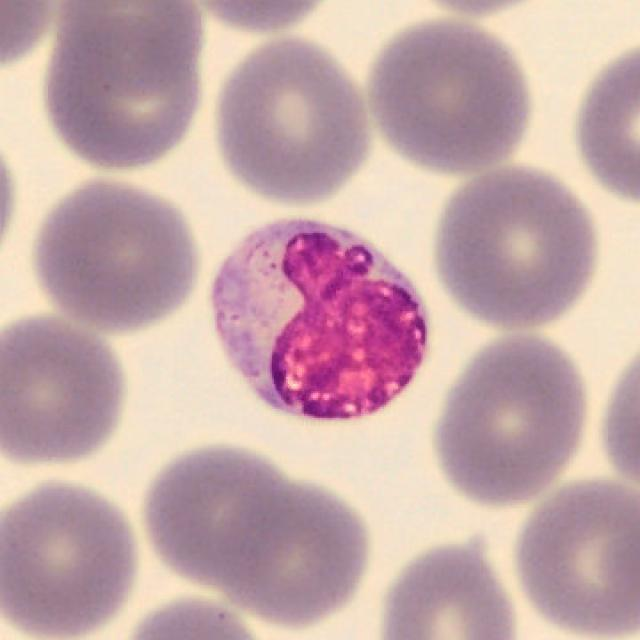Linfocito atipico: (210, 220, 430, 423)
